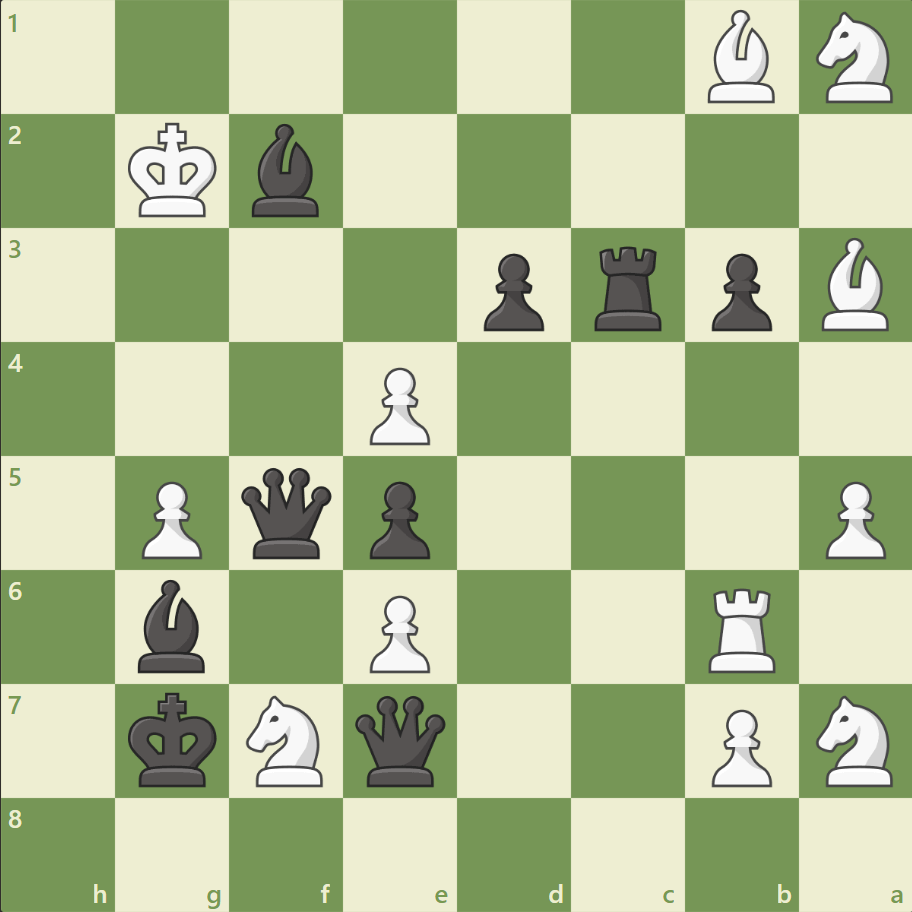B: (812, 233, 896, 336), (698, 6, 782, 109)
K: (124, 117, 224, 225)
N: (806, 688, 903, 791), (238, 688, 335, 791), (806, 7, 903, 110)
P: (701, 700, 776, 791), (133, 473, 208, 564), (361, 586, 435, 677), (815, 473, 889, 564), (361, 359, 435, 450)
R: (700, 579, 783, 676)
b: (131, 574, 215, 676), (244, 120, 328, 222)
k: (124, 685, 224, 793)
p: (701, 246, 776, 337), (474, 246, 549, 337), (361, 473, 435, 564)
q: (351, 690, 450, 789), (237, 463, 336, 562)
r: (587, 239, 670, 336)
